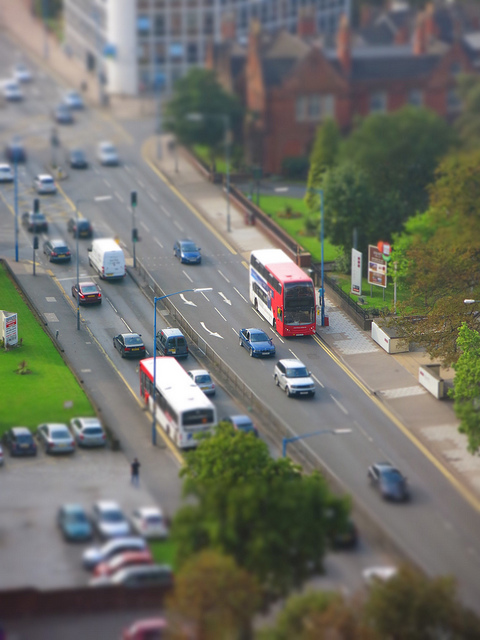Bus: (246, 251, 323, 333)
Car: (272, 356, 316, 402), (109, 331, 149, 363), (242, 328, 275, 360), (71, 278, 102, 304), (172, 238, 198, 265)
